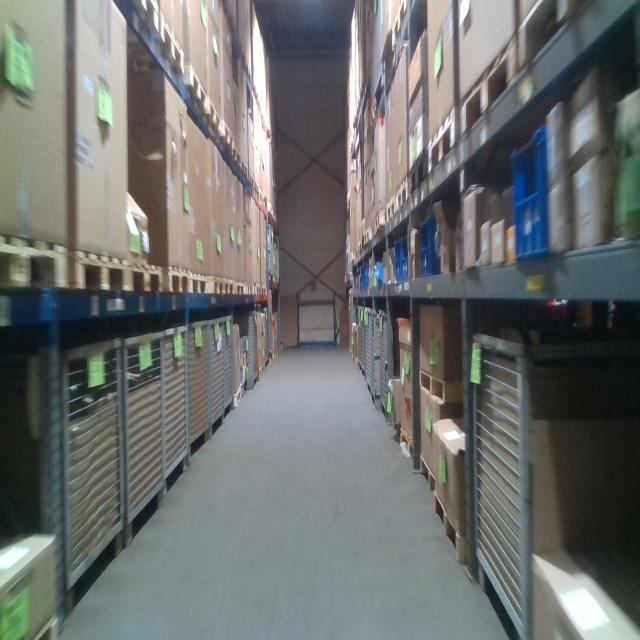pallet: (458, 30, 517, 142), (1, 230, 70, 294), (517, 25, 582, 76), (433, 490, 470, 567), (69, 245, 127, 293), (429, 102, 458, 175), (419, 367, 466, 408), (146, 26, 185, 70), (184, 64, 209, 121), (128, 259, 165, 294), (410, 145, 428, 194), (166, 262, 191, 296), (420, 451, 438, 498), (399, 425, 415, 462), (209, 98, 223, 139), (397, 171, 409, 213), (191, 272, 208, 299), (208, 274, 225, 299), (387, 189, 396, 224), (224, 277, 234, 296), (236, 280, 245, 298)
small_load_carrier: (510, 120, 548, 262), (421, 209, 446, 276), (401, 232, 414, 280), (395, 235, 403, 285), (362, 262, 370, 290)
stillage: (463, 316, 613, 640), (8, 330, 126, 617), (115, 321, 166, 554), (154, 315, 188, 511), (187, 315, 208, 480), (206, 318, 223, 446), (379, 309, 397, 420), (369, 311, 388, 410), (220, 316, 236, 422), (242, 312, 259, 394), (364, 304, 374, 389), (268, 220, 277, 283), (360, 304, 367, 378), (355, 301, 362, 366), (263, 307, 269, 369)
